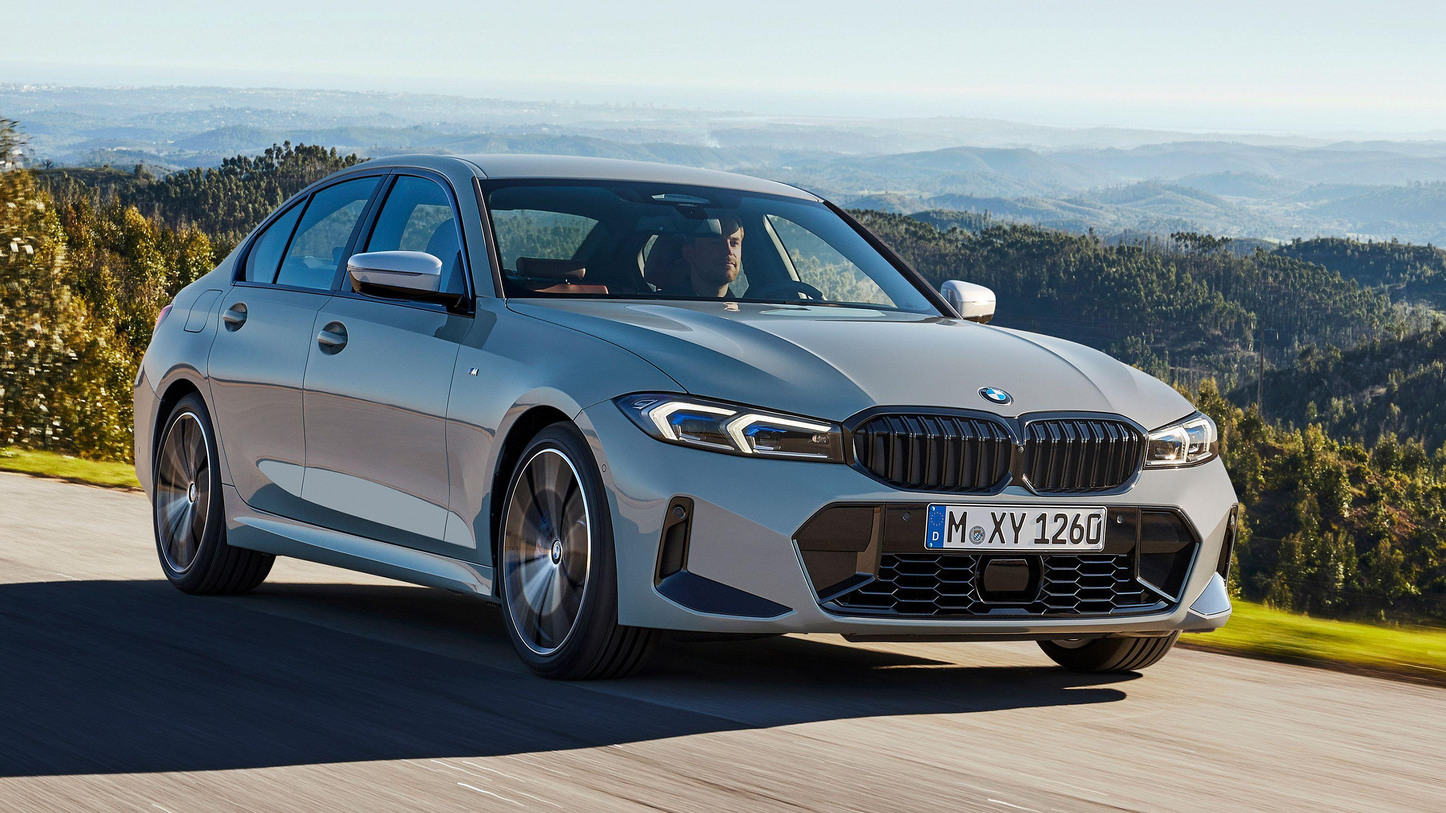Sedan: (124, 140, 1261, 684)
